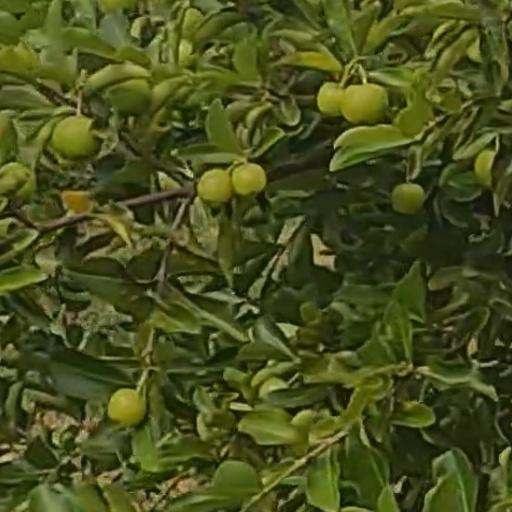acerola_verde: (55, 117, 102, 160), (105, 386, 148, 428), (347, 84, 387, 126), (198, 168, 230, 206), (392, 182, 428, 214), (316, 81, 344, 115), (236, 164, 265, 196)
